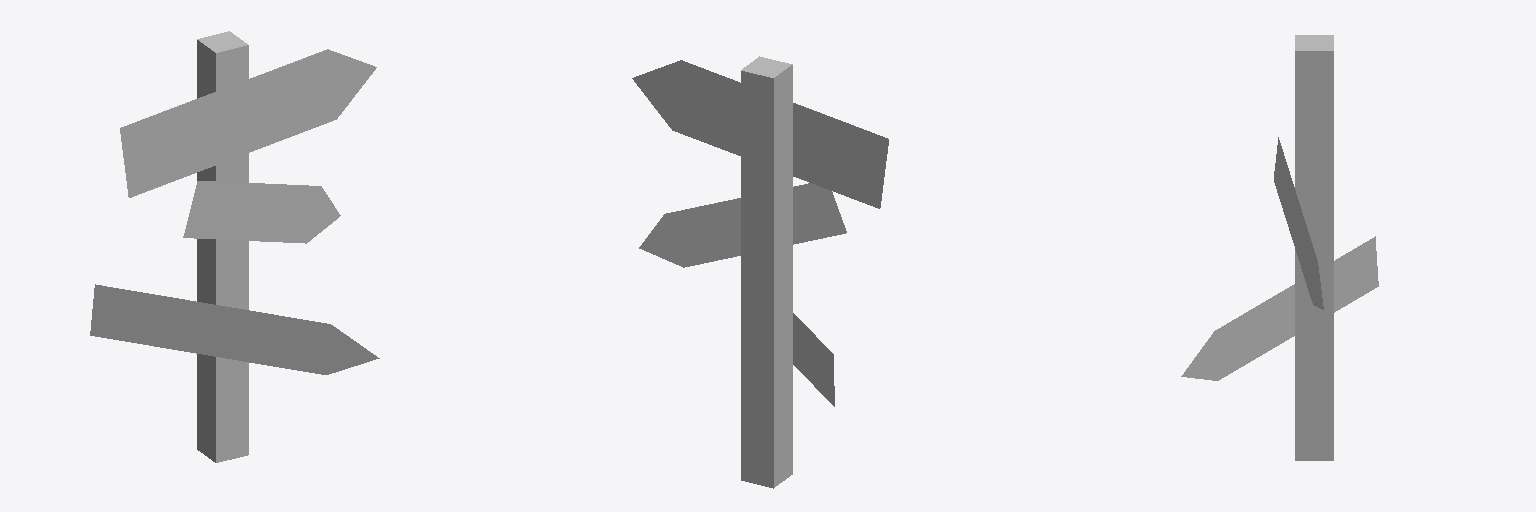
File: panneau directionel.obj
3 renders of one model, left to right at view 1: azimuth 30°, elevation 25°; view 2: azimuth 150°, elevation 25°; view 3: azimuth 270°, elevation 25°, orthographic.
Visible parts, largest first — view 1: Panneau; view 2: Panneau; view 3: Panneau.
Boxes of the visible parts, <box> form: Panneau: <box>90,31,379,462</box>; Panneau: <box>632,56,888,488</box>; Panneau: <box>1181,35,1378,460</box>.
Bounding box in the file's own units: 40.95 × 62.3 × 27.21.